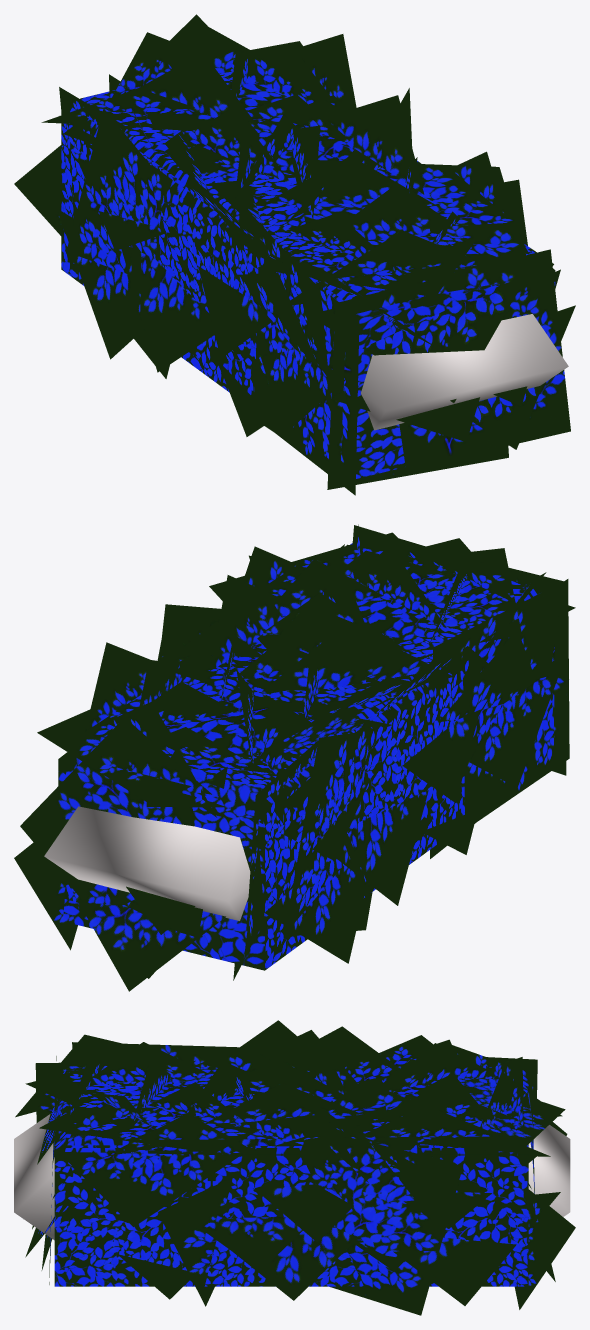
Rendered from Homeworld_Exterior_Fd_Plant_Grass_ZhucCong_01_Lod0.fbx.
3 renders of one model, top to bottom at view 1: azimuth 30°, elevation 25°; view 2: azimuth 150°, elevation 25°; view 3: azimuth 270°, elevation 25°, orthographic. The views are drawn at different scales.
Visible parts, largest first — view 1: Area_Fd_Grass_Common_MGrass01_Lod0, EffectMesh; view 2: Area_Fd_Grass_Common_MGrass01_Lod0, EffectMesh; view 3: Area_Fd_Grass_Common_MGrass01_Lod0, EffectMesh.
Boxes of the visible parts, x1,y1,x2,y2 form: Area_Fd_Grass_Common_MGrass01_Lod0: [14, 14, 575, 495]; EffectMesh: [361, 314, 568, 430]; Area_Fd_Grass_Common_MGrass01_Lod0: [14, 524, 575, 991]; EffectMesh: [44, 806, 250, 920]; Area_Fd_Grass_Common_MGrass01_Lod0: [15, 1020, 575, 1315]; EffectMesh: [14, 1114, 570, 1240].
Size of the model in its own units: 2.21 by 2.09 by 4.69.
